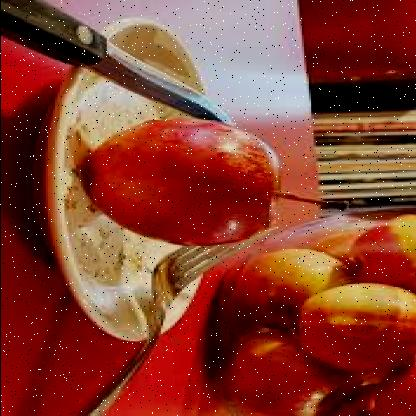apple: (92, 123, 289, 239), (230, 243, 354, 325), (300, 286, 414, 360)
